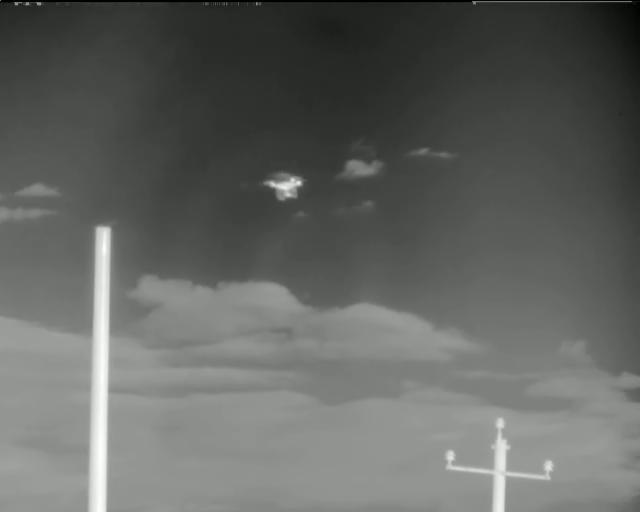uav: (262, 175, 305, 203)
